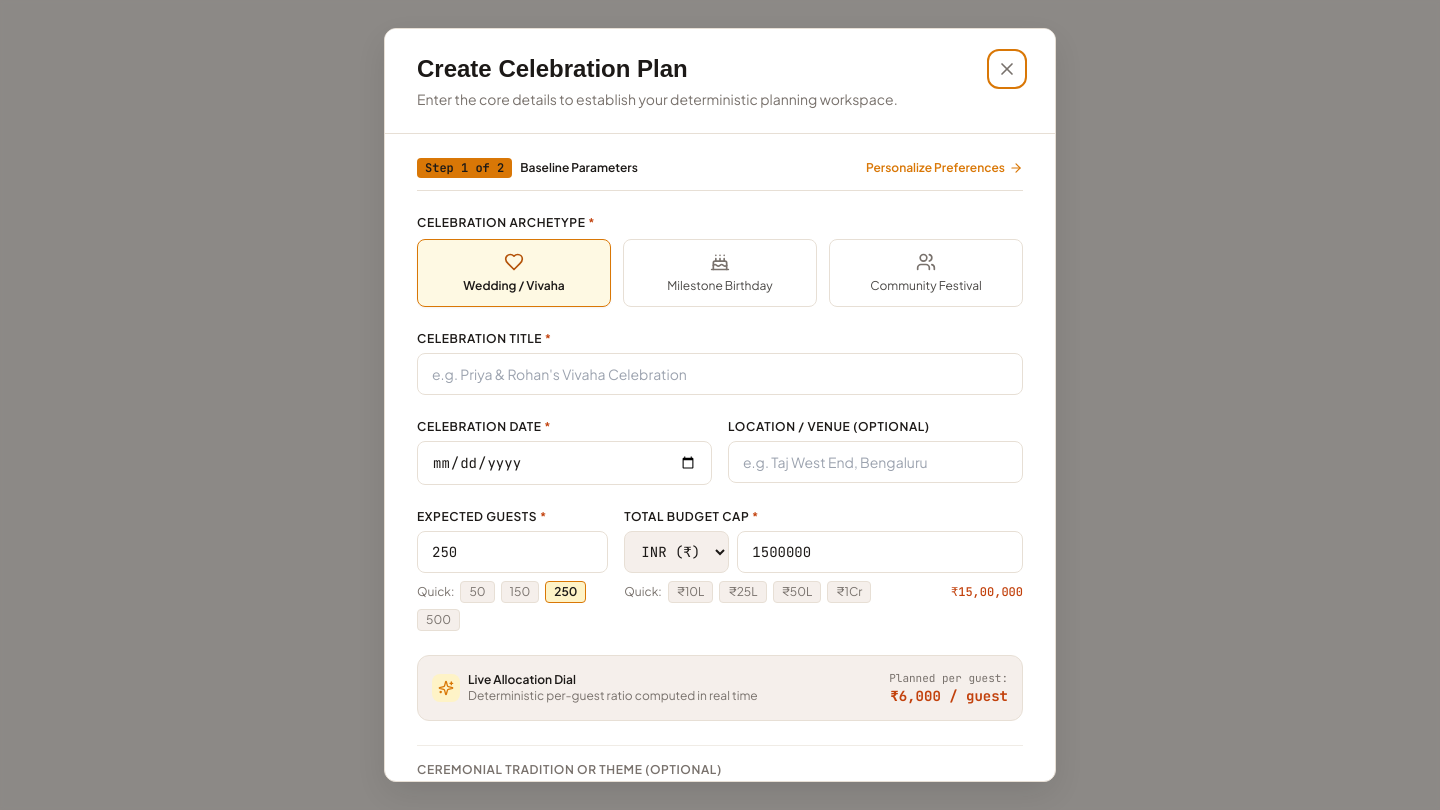
Scenario: EventCreateDialog Component › updates suggested values when switching archetypes if fields have not been manually edited
Expected: the number field labelled "Expected Guests *" holds "250", x1=417 y1=531 x2=608 y2=573
Expected: the number field labelled "Total Budget Cap *" holds "1500000", x1=737 y1=531 x2=1023 y2=573
# Switch to Milestone Birthday
Click the button "Milestone Birthday" at {"x": 720, "y": 273}, box x1=623 y1=239 x2=817 y2=307
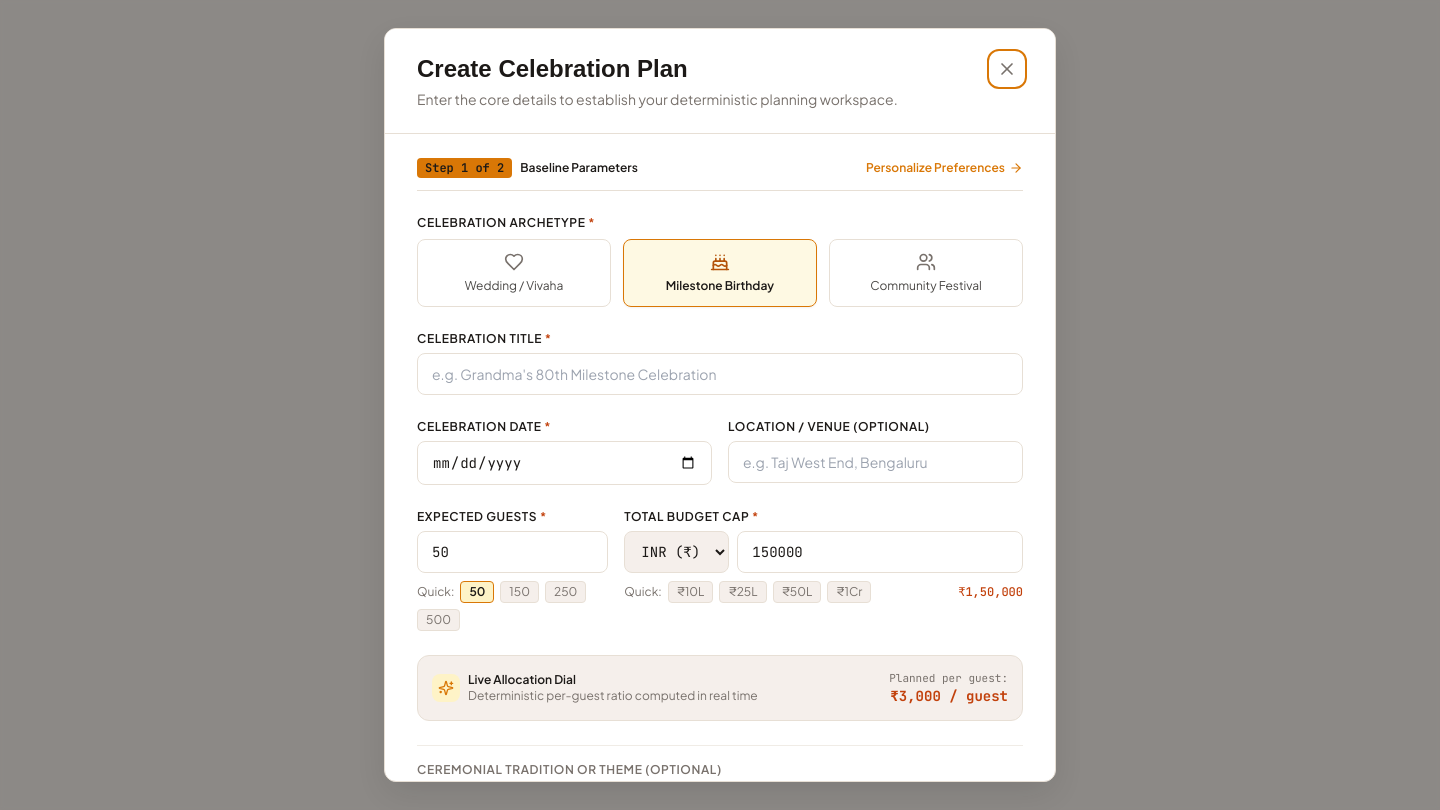
Expected: the number field labelled "Expected Guests *" holds "50", x1=417 y1=531 x2=608 y2=573
Expected: the number field labelled "Total Budget Cap *" holds "150000", x1=737 y1=531 x2=1023 y2=573
# Switch to Community Festival
Click the button "Community Festival" at {"x": 926, "y": 273}, box x1=829 y1=239 x2=1023 y2=307
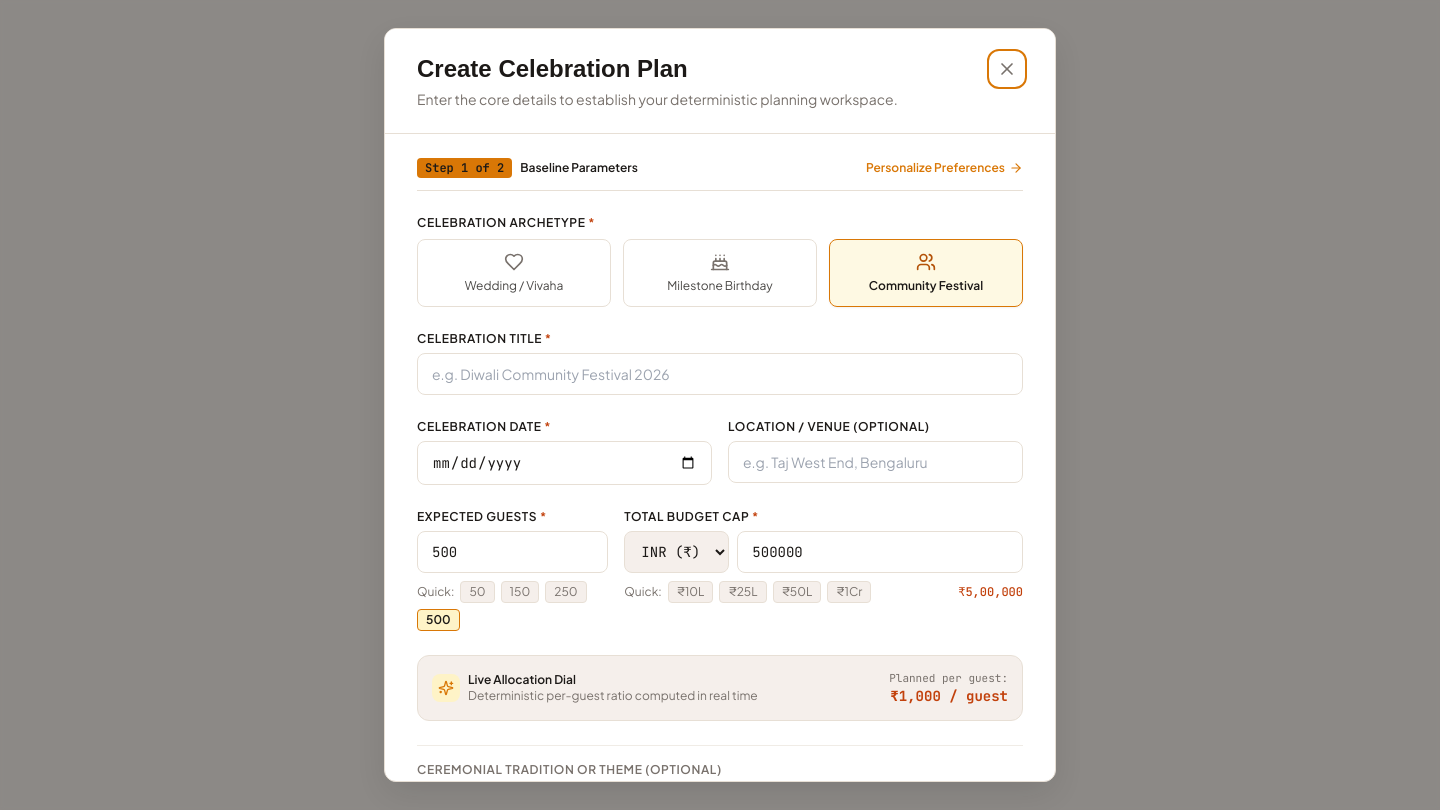
Expected: the number field labelled "Expected Guests *" holds "500", x1=417 y1=531 x2=608 y2=573
Expected: the number field labelled "Total Budget Cap *" holds "500000", x1=737 y1=531 x2=1023 y2=573
# Switch back to Wedding
Click the button "Wedding / Vivaha" at {"x": 514, "y": 273}, box x1=417 y1=239 x2=611 y2=307
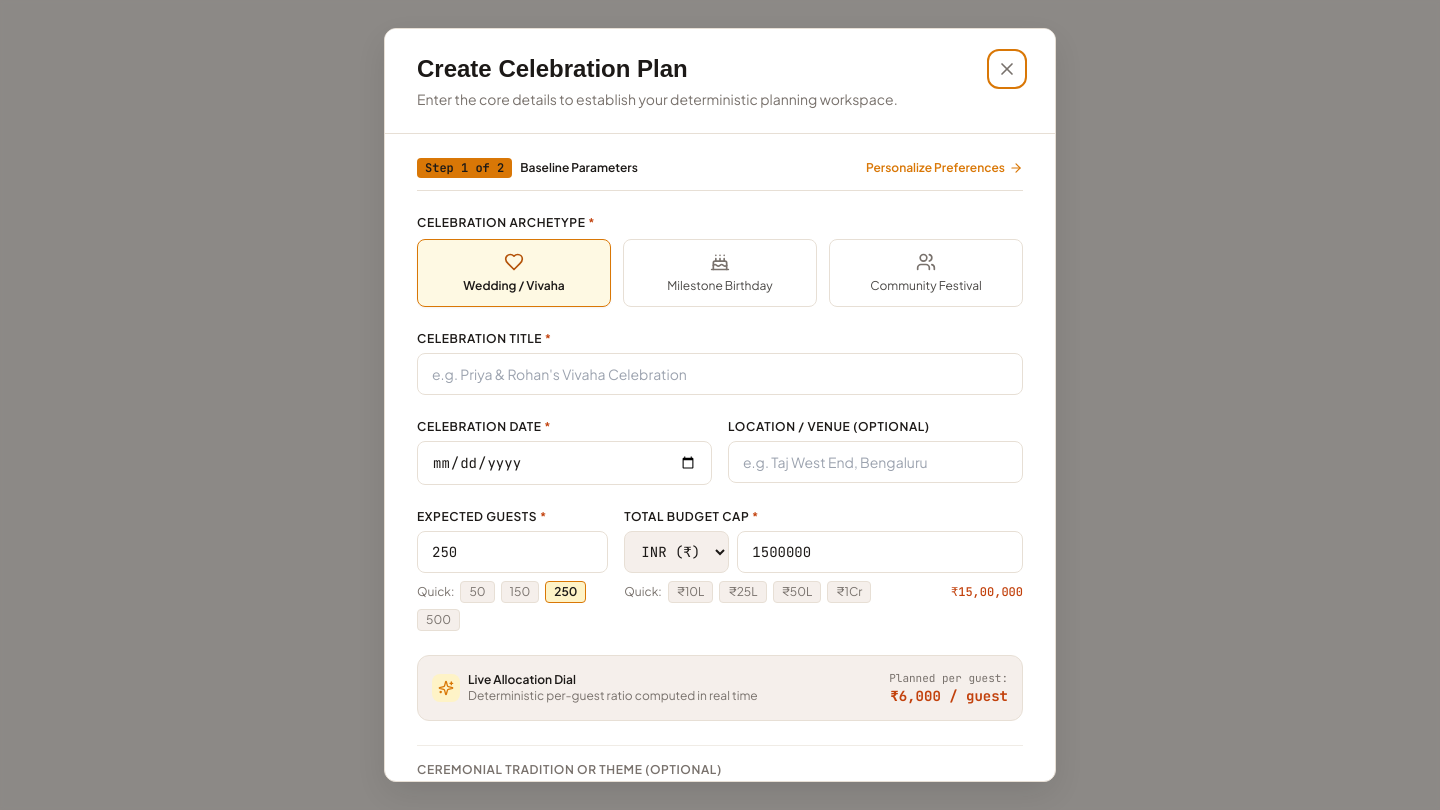
Expected: the number field labelled "Expected Guests *" holds "250", x1=417 y1=531 x2=608 y2=573
Expected: the number field labelled "Total Budget Cap *" holds "1500000", x1=737 y1=531 x2=1023 y2=573
